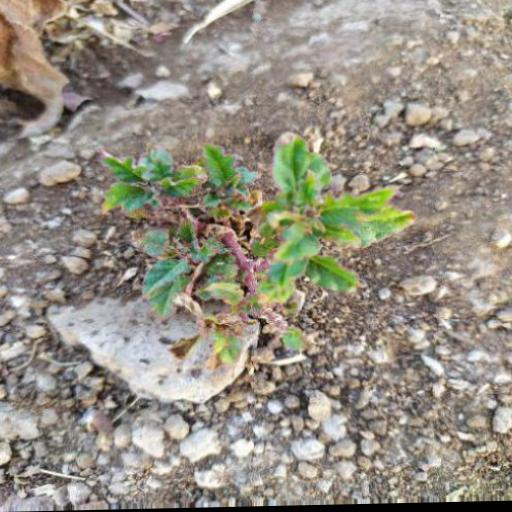weed: (92, 135, 411, 387)
